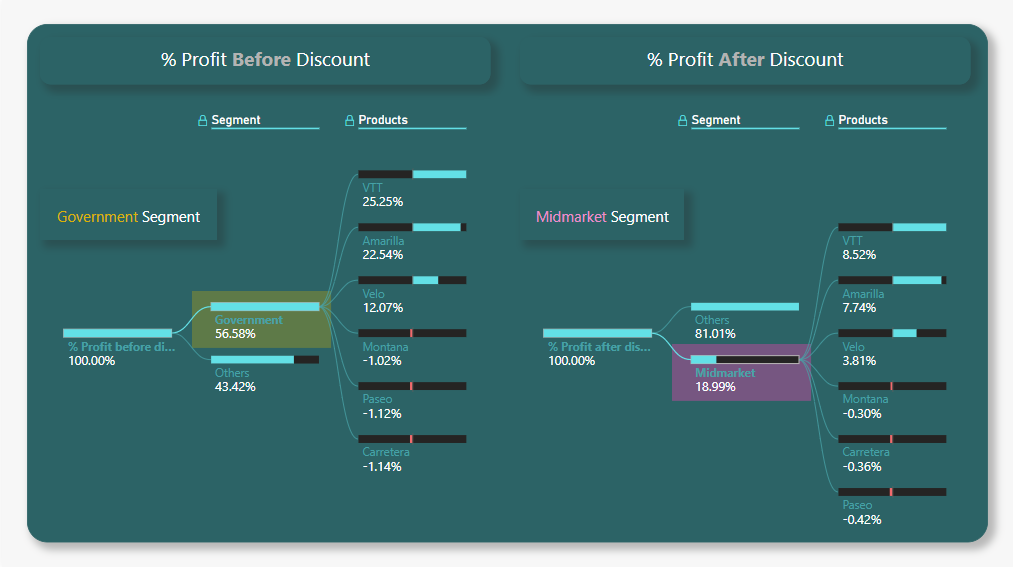

What the dashboard file says about the page in this screenshot:
{"tool":"powerbi","page":{"name":"Profit by Segments","canvas":[1280,720],"ordinal":0},"visuals":[{"type":"basicShape","box":[32,32,1216,656],"z":0},{"type":"basicShape","box":[240,369,176,72],"z":1000},{"type":"basicShape","box":[848,437,176,72],"z":2000},{"type":"decompositionTreeVisual","fields":{"ExplainBy":["financials.Segment (groups)","financials.Product"],"Analyze":["Sum(financials.% Profit before discount)"]},"box":[48,128,592,592],"z":3000},{"type":"decompositionTreeVisual","fields":{"ExplainBy":["financials.Segment (groups) 2","financials.Product"],"Analyze":["Sum(financials.% Profit after discount)"]},"box":[656,128,592,592],"z":4000},{"type":"textbox","box":[48,48,570,60],"z":5000},{"type":"textbox","box":[656,48,570,60],"z":6000},{"type":"textbox","box":[48,240,224,64],"z":7000},{"type":"textbox","box":[656,240,208,64],"z":8000}]}

Visuals, with their boxes in screenshot pixels (x1, y1, x2, y2), scaled from the page's 1280x720 canvas onto the 1013x567 screenshot:
basicShape: region(25, 25, 988, 542)
basicShape: region(190, 291, 329, 347)
basicShape: region(671, 344, 810, 401)
decompositionTreeVisual - financials.Segment (groups) x financials.Product: region(38, 101, 506, 566)
decompositionTreeVisual - financials.Segment (groups) 2 x financials.Product: region(519, 101, 988, 566)
textbox: region(38, 38, 489, 85)
textbox: region(519, 38, 970, 85)
textbox: region(38, 189, 215, 239)
textbox: region(519, 189, 684, 239)
